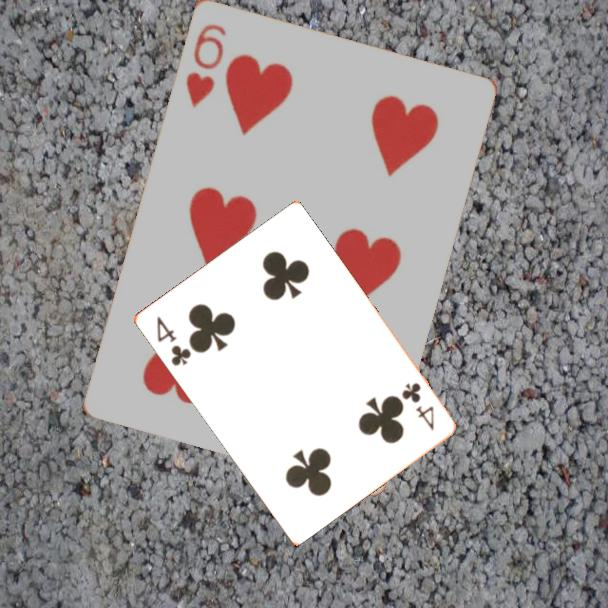c04: (152, 313, 194, 369), (398, 379, 437, 434)
h06: (182, 20, 229, 110)
